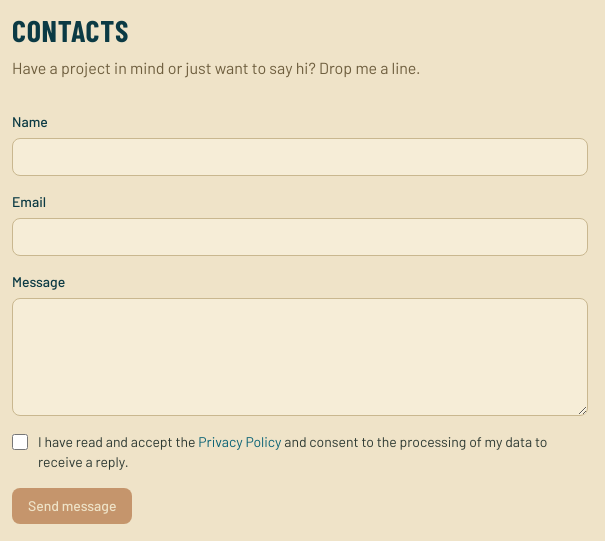
Test: Contacts › keeps submit disabled until the privacy consent is given
Check: the button "Send message" is disabled, box [12,488,132,524]
Click the checkbox at (20, 442), box [12,434,28,450]
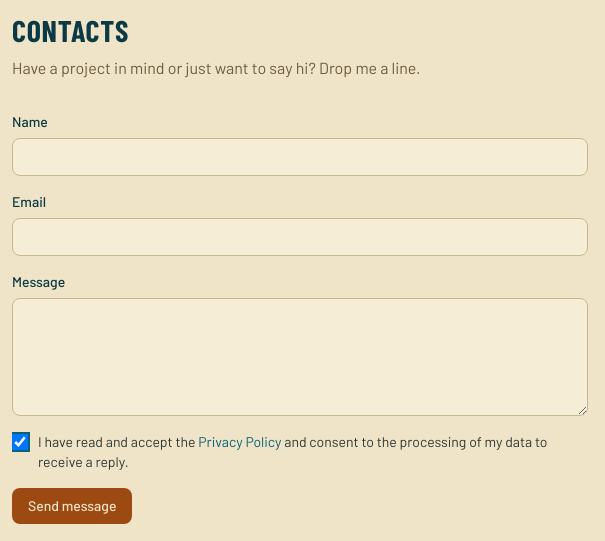
Check: the button "Send message" is enabled, box [12,488,132,524]
